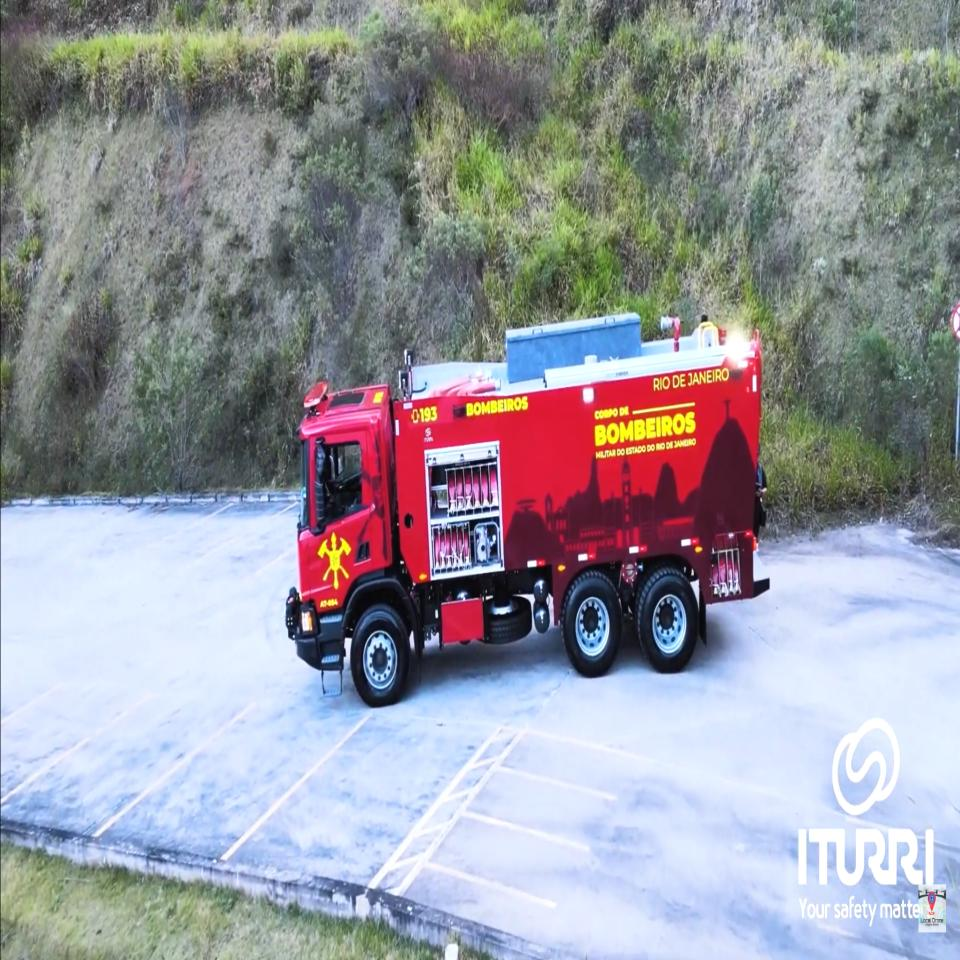bombeiro: (284, 308, 774, 712)
